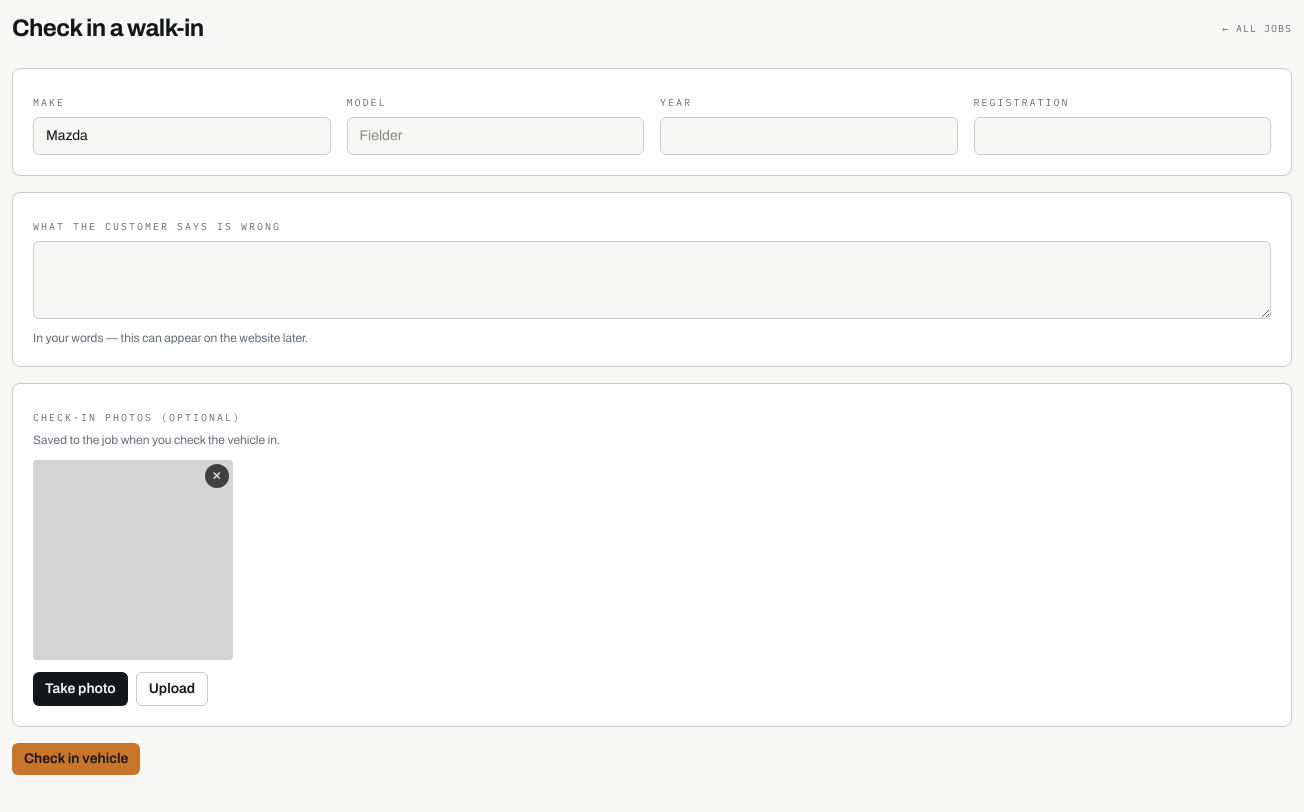
<WalkInForm /> › still opens the job when some photos fail, and says so
The image size is (1304, 812).
Earlier steps of the test are not shown.
Step 1. Click the button "Check in vehicle" → [76, 759], box [12,743,140,775]
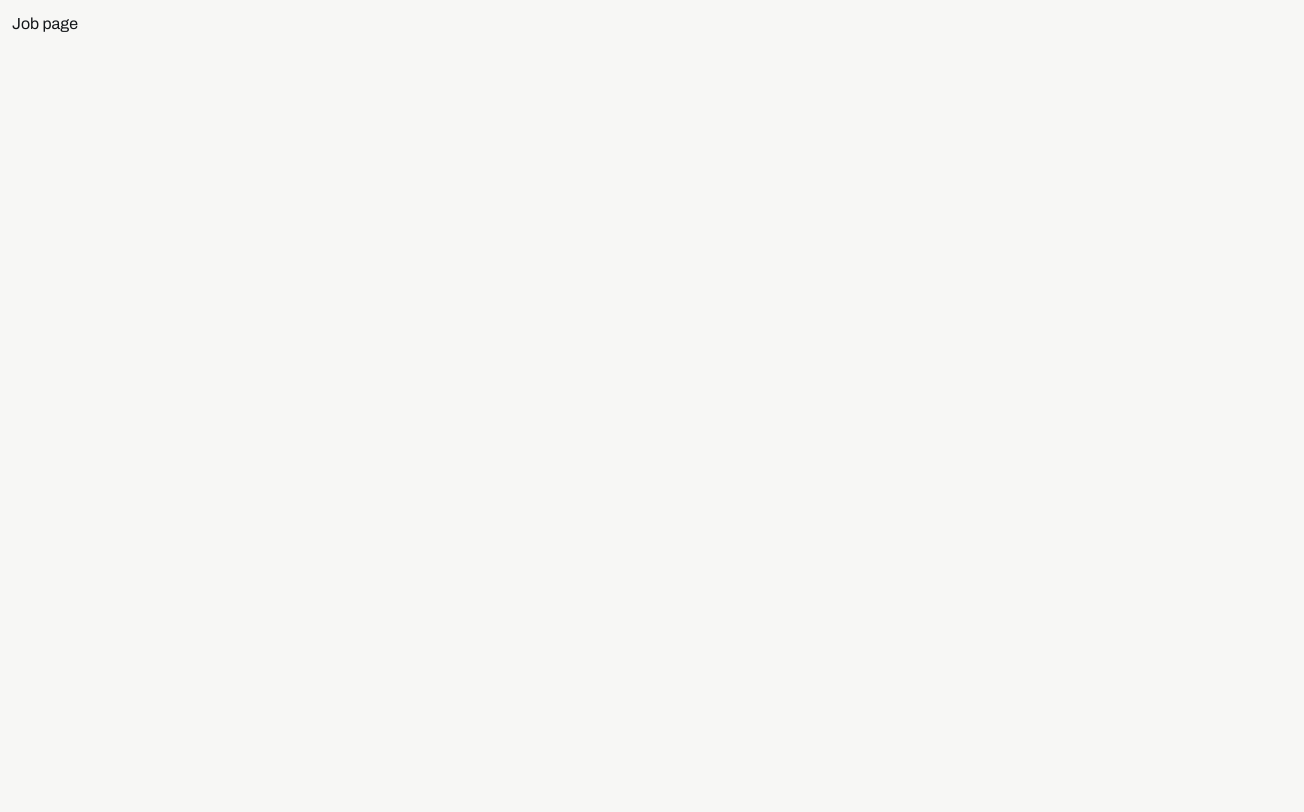
Result: the text "Job page" is shown at [12,15,78,32]
